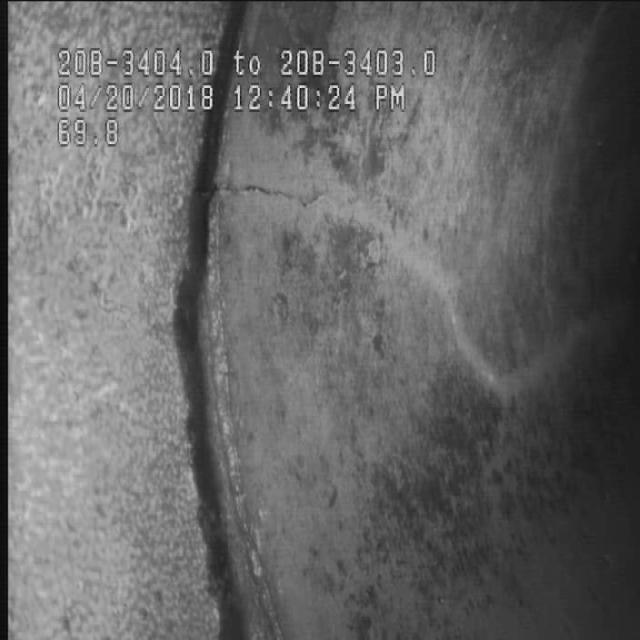Crack: (229, 168, 435, 238)
